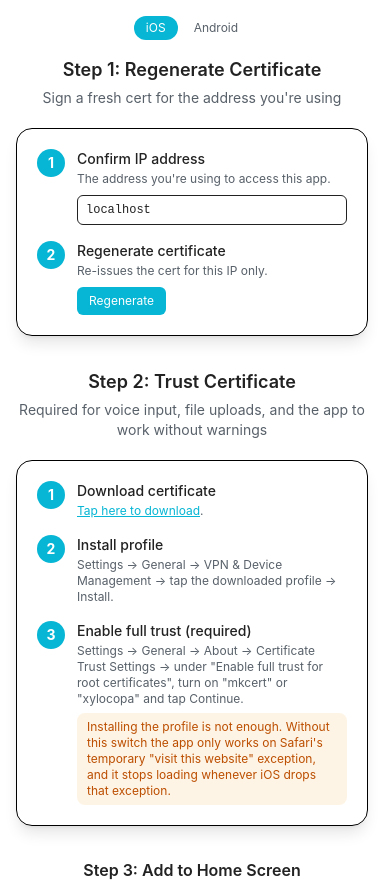
Test: CertGuidePage regenerate › sends the stored session as Bearer
Replace the text in the field with "100.64.0.10" at (212, 210), box [77,195,347,225]
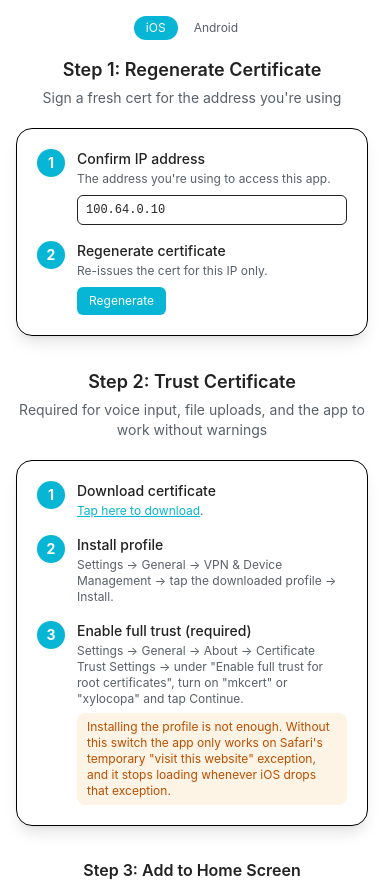
Click the button "Regenerate" at (122, 301), box [77,287,166,315]
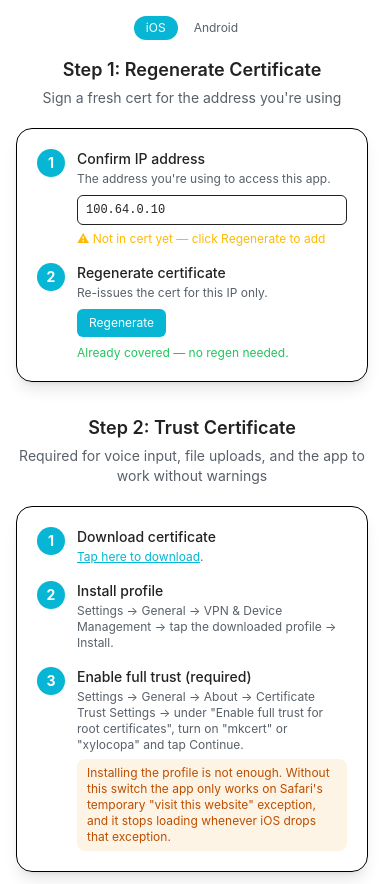
Check: the text "Already covered — no regen needed." is shown, box [77,345,289,360]
